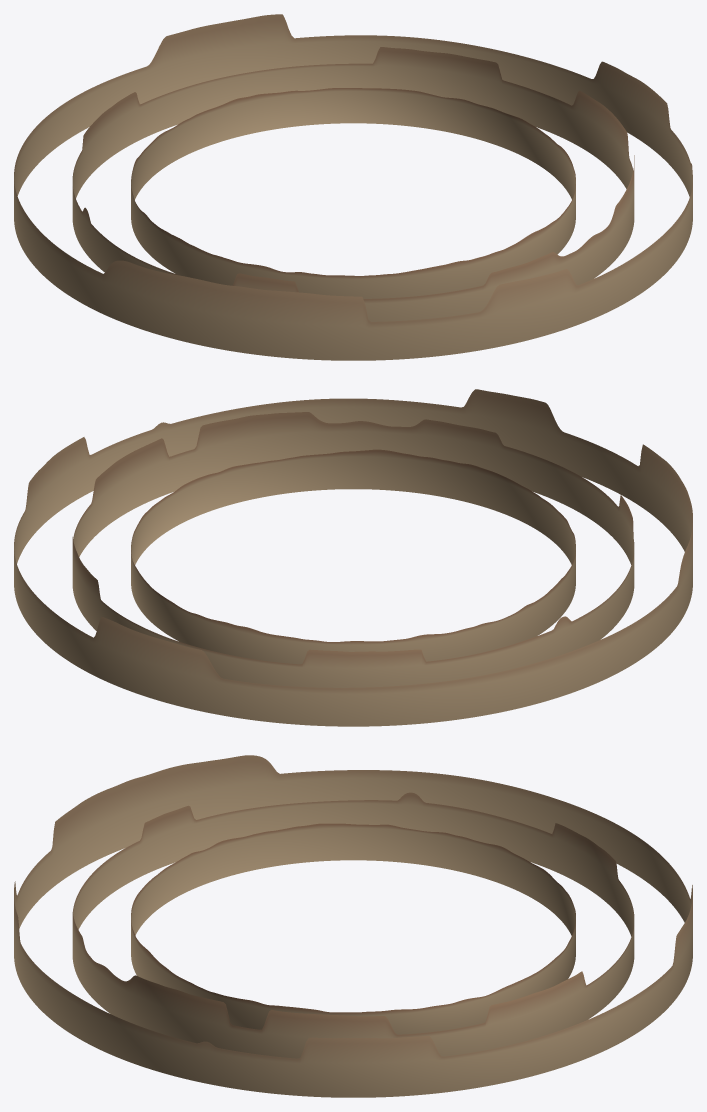
3 renders of one model, top to bottom at view 1: azimuth 30°, elevation 25°; view 2: azimuth 150°, elevation 25°; view 3: azimuth 270°, elevation 25°, orthographic.
Visible parts, largest first — view 1: Backdrop_L1_A; view 2: Backdrop_L1_A; view 3: Backdrop_L1_A.
Part boxes in pixels (x1=…): Backdrop_L1_A: x1=14, y1=14, x2=692, y2=360; Backdrop_L1_A: x1=14, y1=389, x2=692, y2=726; Backdrop_L1_A: x1=14, y1=755, x2=692, y2=1097.
Size of the model in its own units: 2320 by 251 by 2320.
